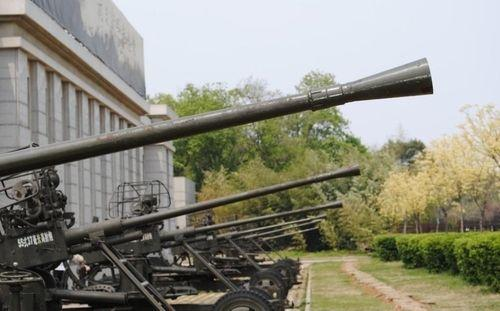MIL_SPG: (0, 167, 296, 311)
